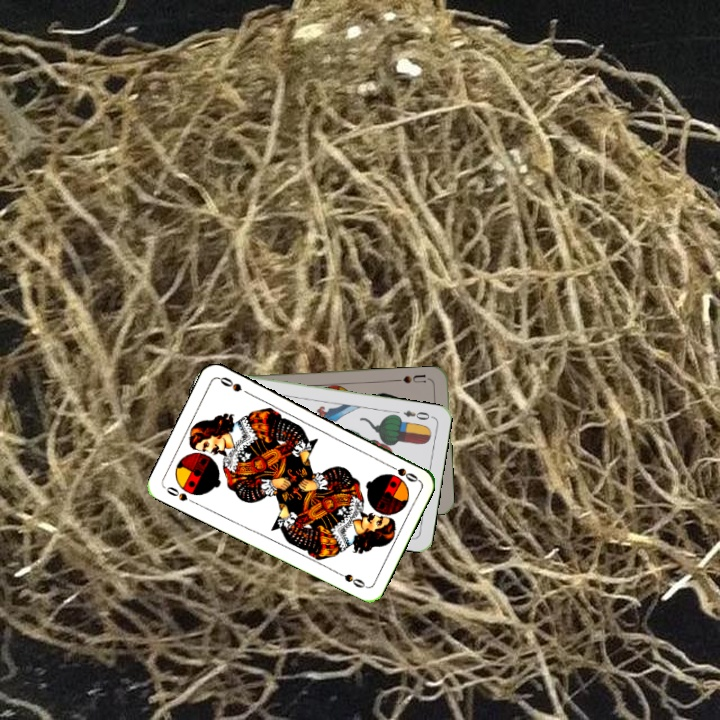EO: (399, 406, 435, 423)
SO: (383, 460, 421, 485), (161, 483, 199, 507)
SU: (392, 370, 433, 385)
